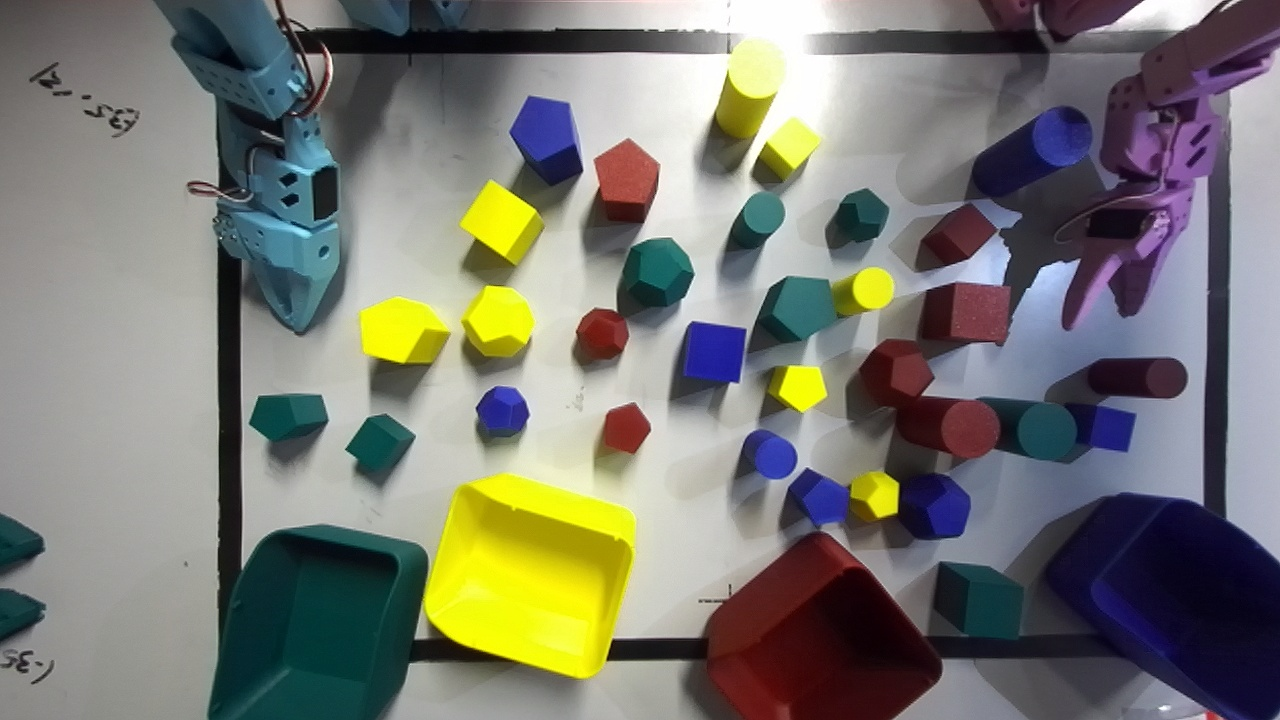bin: (1047, 492, 1279, 719), (707, 534, 941, 719), (423, 473, 635, 677), (210, 526, 426, 719)
cube: (459, 180, 543, 264), (934, 561, 1023, 638), (920, 283, 1010, 344), (923, 204, 1007, 265), (345, 414, 415, 471), (758, 117, 820, 180), (683, 321, 745, 382), (1064, 403, 1135, 451)
cylinder: (971, 106, 1092, 197), (716, 38, 784, 138), (896, 397, 1000, 458), (980, 397, 1076, 460), (1087, 357, 1187, 398), (830, 267, 893, 316), (732, 191, 784, 247), (742, 430, 797, 478)
dodecahedron: (617, 237, 693, 306), (461, 285, 534, 356), (860, 339, 933, 408), (898, 473, 970, 538), (832, 188, 888, 242), (576, 308, 628, 359), (476, 386, 529, 436), (850, 471, 899, 521)
hexagonal: (509, 96, 582, 185), (359, 297, 450, 363), (752, 276, 836, 342), (594, 138, 659, 221), (249, 394, 327, 440), (787, 468, 849, 525), (767, 365, 826, 411), (602, 402, 650, 454)
